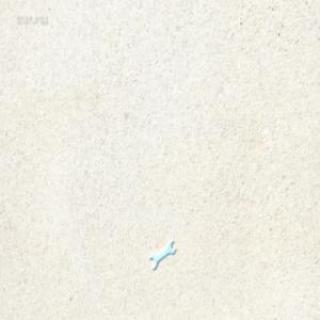Wrenchtrack_idkeyframe: (149, 239, 175, 270)
